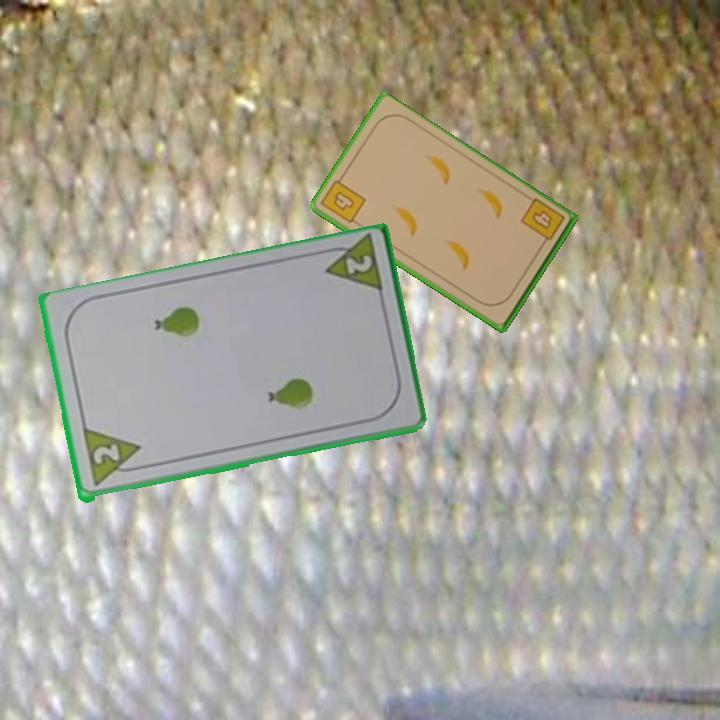2p: (341, 251, 375, 278), (89, 441, 122, 468)
4b: (318, 172, 369, 227), (517, 195, 568, 250)
